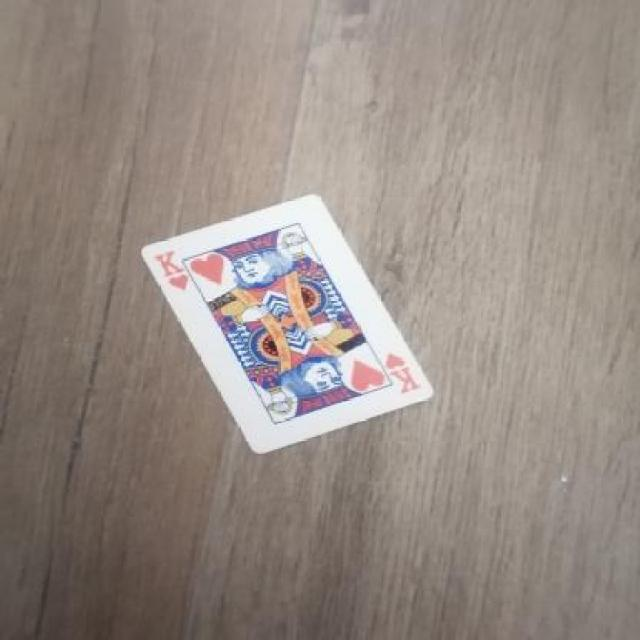KH: (143, 248, 194, 294), (382, 348, 418, 399)
